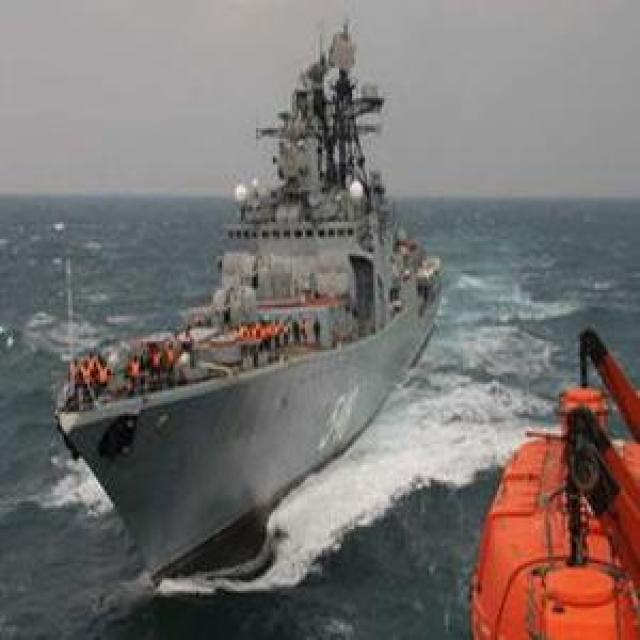navalvessels: (56, 15, 450, 569)
